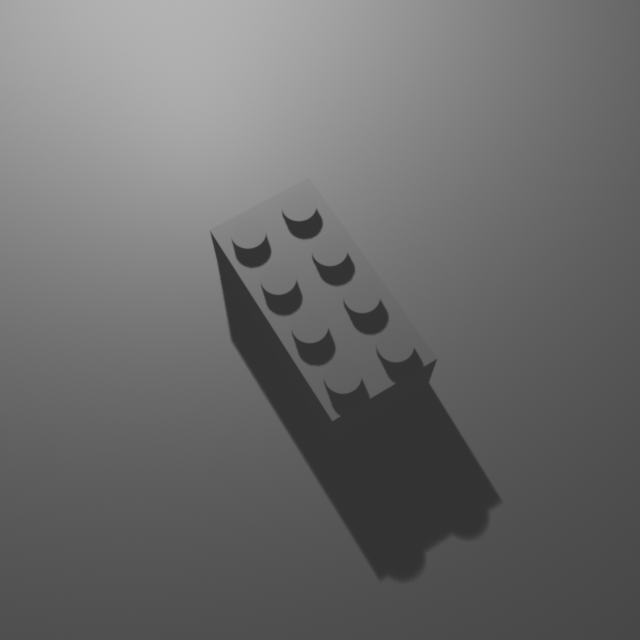lego_2x4: (208, 171, 439, 441)
